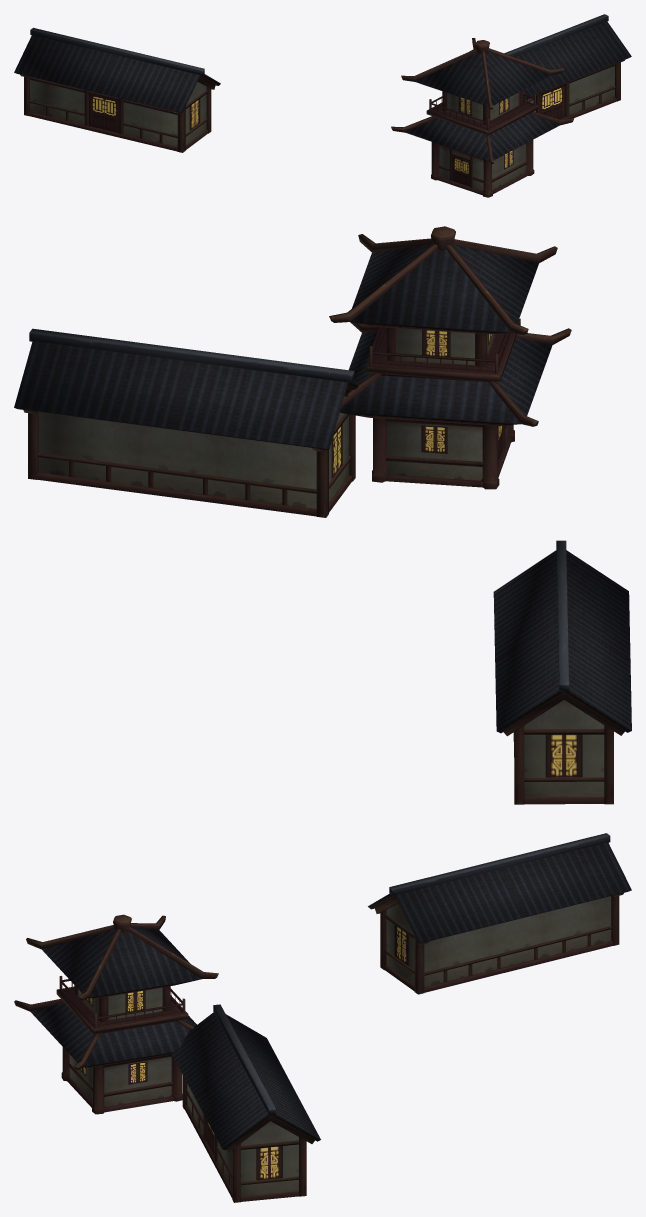
The model's file is fangzi03.FBX.
3 renders of one model, top to bottom at view 1: azimuth 30°, elevation 25°; view 2: azimuth 150°, elevation 25°; view 3: azimuth 270°, elevation 25°, orthographic. The views are drawn at different scales.
Visible parts, largest first — view 1: fangzi03; view 2: fangzi03; view 3: fangzi03.
Boxes of the visible parts, x1=… form: fangzi03: x1=14, y1=14, x2=631, y2=197; fangzi03: x1=14, y1=226, x2=631, y2=804; fangzi03: x1=14, y1=833, x2=631, y2=1202.
Size of the model in its own units: 5777 by 1567 by 5060.
